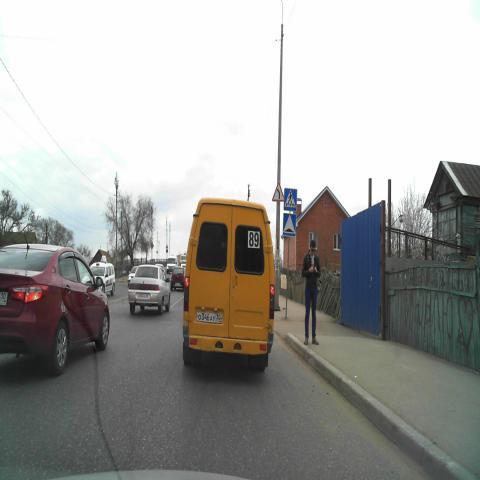5_20: (282, 213, 296, 238)
